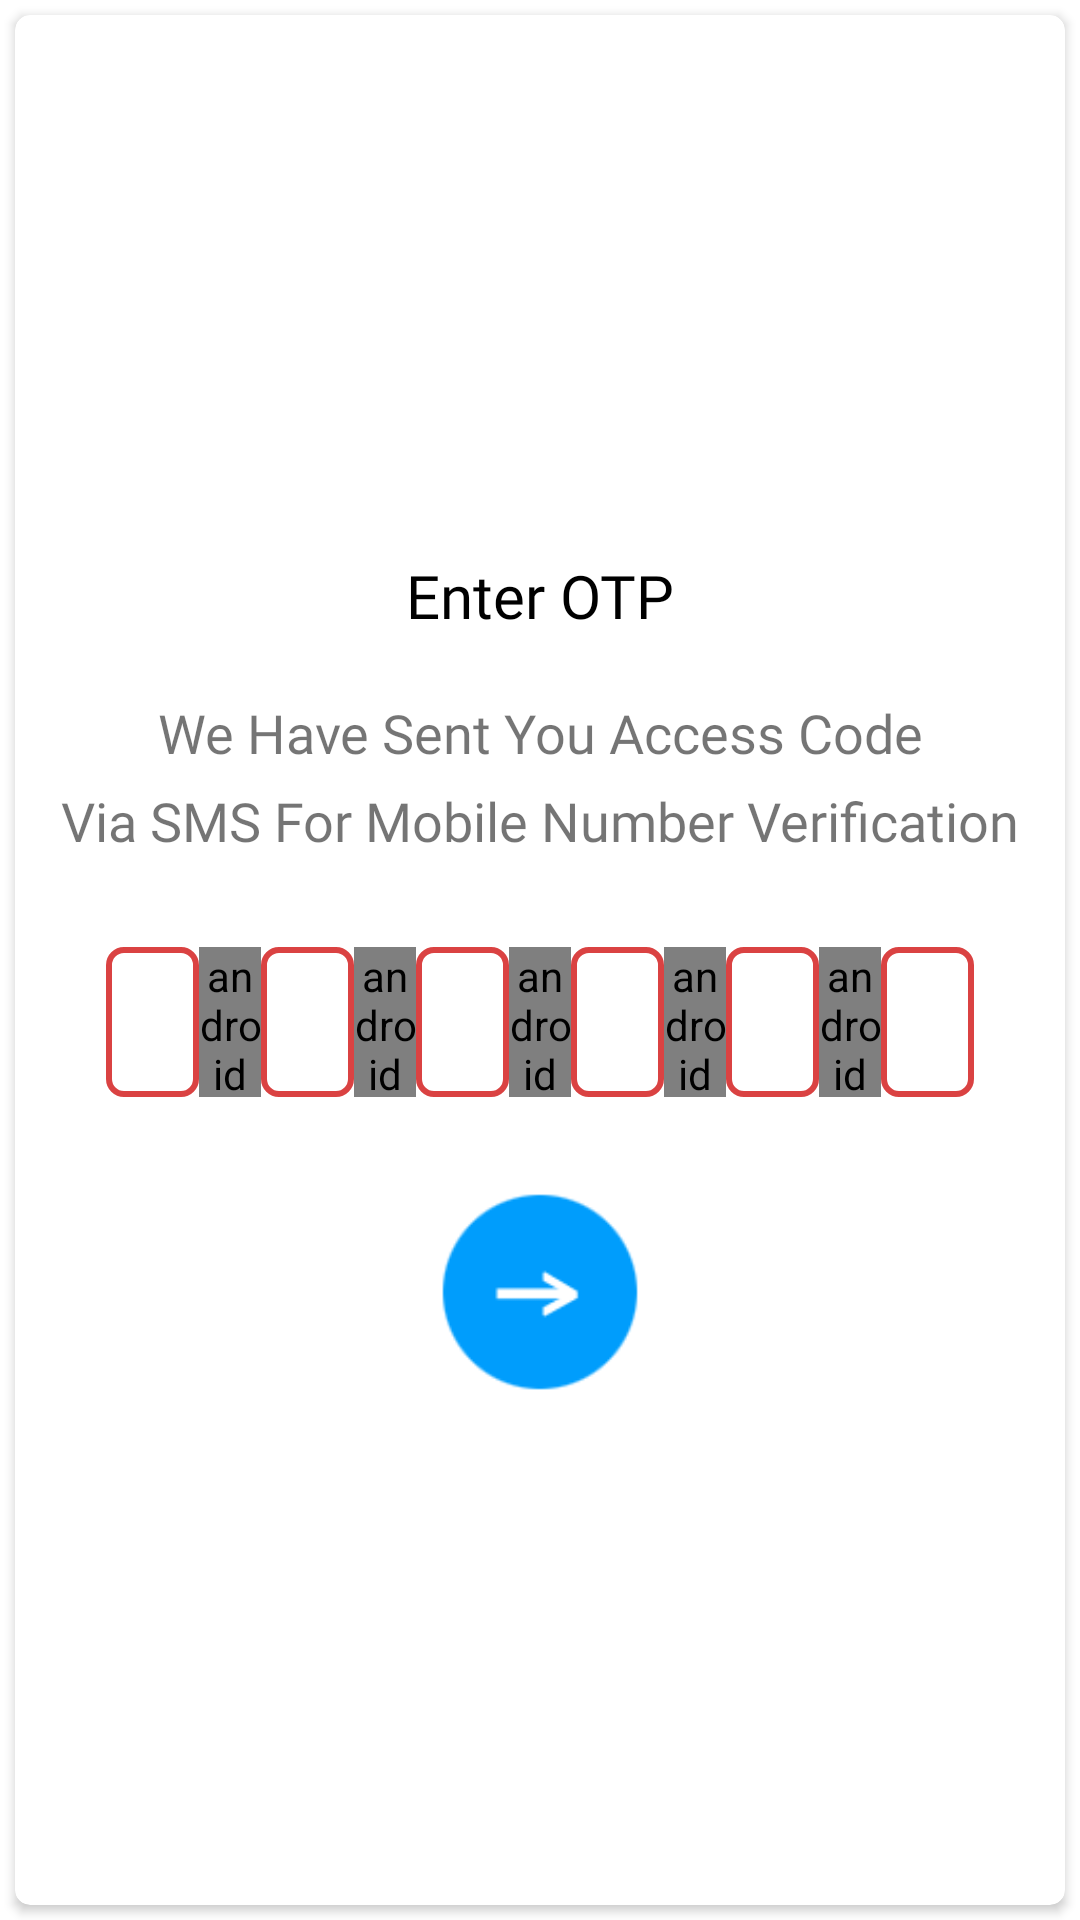

Screen size 1080px x 1920px. Icon name, then its box in pixels as Rect(x1, y1, x2, y2):
rightarrow: Rect(442, 1194, 638, 1390)
